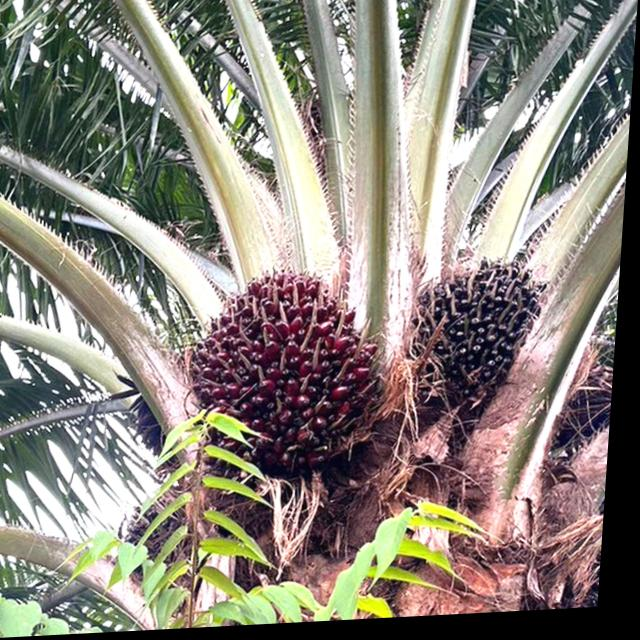ripe: (181, 257, 402, 470), (408, 257, 560, 414)
